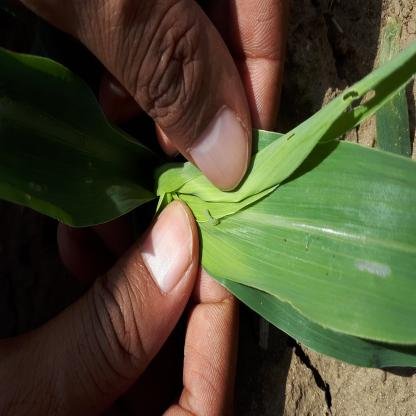armyworm: (106, 365, 116, 393)
